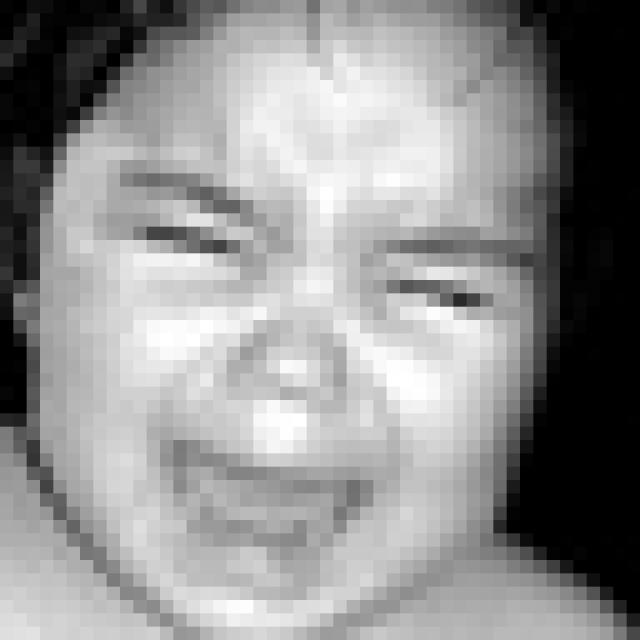sad: (80, 131, 545, 585)
